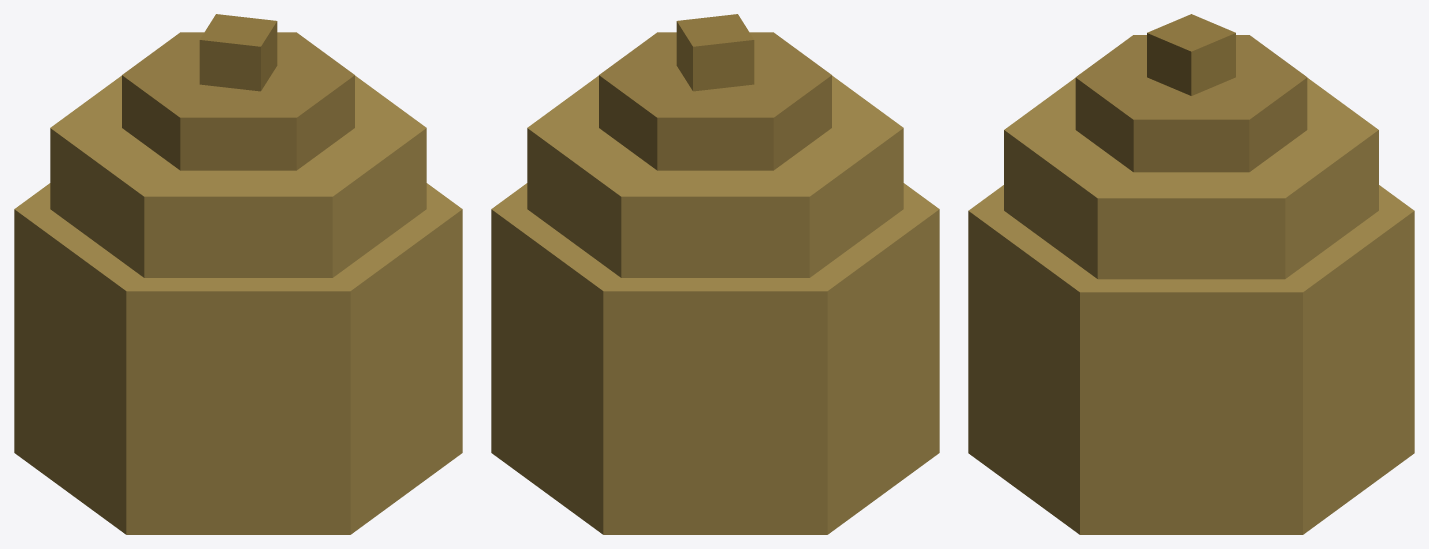
The model's file is bg_field_haystack_1_lod2.glb.
3 views of the same model, side by side, from view 1: azimuth 30°, elevation 25°; view 2: azimuth 150°, elevation 25°; view 3: azimuth 270°, elevation 25° (orthographic).
Visible parts, largest first — view 1: body; view 2: body; view 3: body.
Boxes of the visible parts, left/top/right/bottom form: body: left=14, top=14, right=462, bottom=534; body: left=491, top=14, right=939, bottom=534; body: left=968, top=14, right=1414, bottom=534.
Size of the model in its own units: 2.17 by 2.6 by 2.5.
